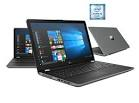laptop: (25, 15, 121, 85)
